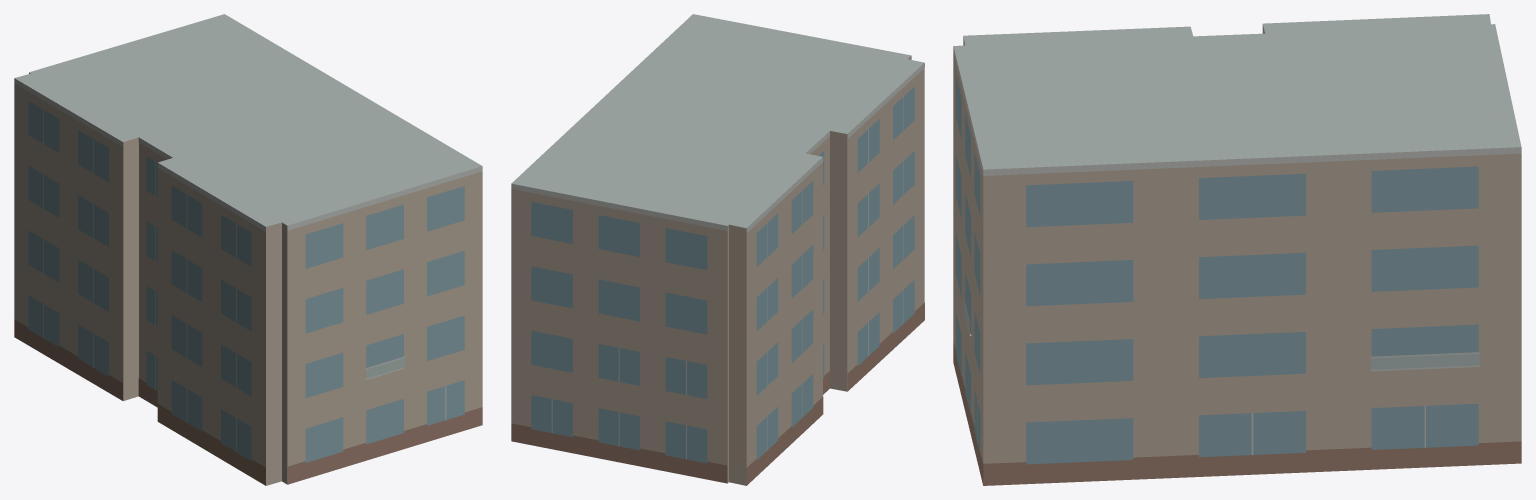
Rendered from survey-upis-32663754.glb.
3 views of the same model, side by side, from view 1: azimuth 30°, elevation 25°; view 2: azimuth 150°, elevation 25°; view 3: azimuth 270°, elevation 25° (orthographic). The views are drawn at different scales.
Parts seen in each view (by area): view 1: survey-upis-32663754.tmp; view 2: survey-upis-32663754.tmp; view 3: survey-upis-32663754.tmp.
Boxes of the visible parts, x1=… form: survey-upis-32663754.tmp: x1=14, y1=14, x2=482, y2=485; survey-upis-32663754.tmp: x1=511, y1=14, x2=924, y2=485; survey-upis-32663754.tmp: x1=953, y1=14, x2=1521, y2=485.
Size of the model in its own units: 12.88 by 12.2 by 19.87.
